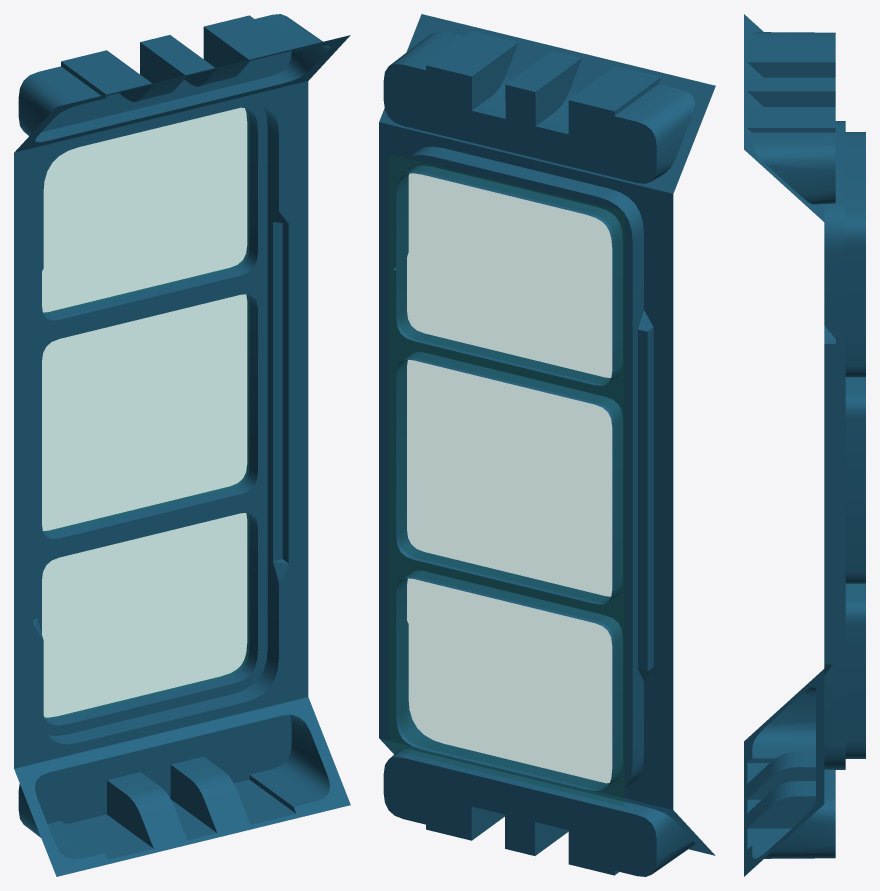
File: BigWin_Win_A.FBX
3 views of the same model, side by side, from view 1: azimuth 30°, elevation 25°; view 2: azimuth 150°, elevation 25°; view 3: azimuth 270°, elevation 25° (orthographic). The views are drawn at different scales.
Parts seen in each view (by area): view 1: BigWin_Win_A; view 2: BigWin_Win_A; view 3: BigWin_Win_A.
Part boxes in pixels (x1,y1,x2,y2): BigWin_Win_A: (14,14,350,876); BigWin_Win_A: (379,14,715,876); BigWin_Win_A: (744,14,865,876).
Size of the model in its own units: 300 by 750 by 114.
